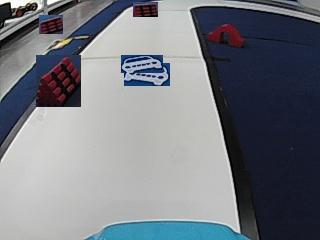bridge: (206, 23, 244, 46)
